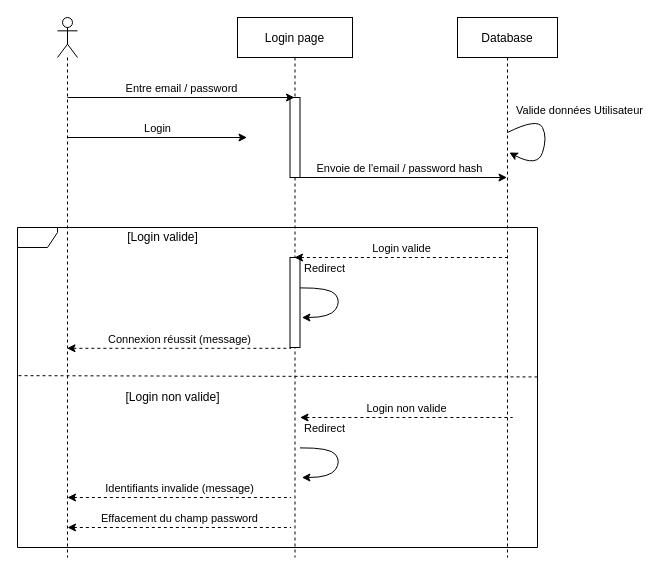
This 661x575 diagram has some shape labels left out. The box of each missing label's shape, as (x1, y1, x2, y2) in pixels:
alt: (16, 226, 538, 548)
Utilisateur: (56, 16, 78, 558)
